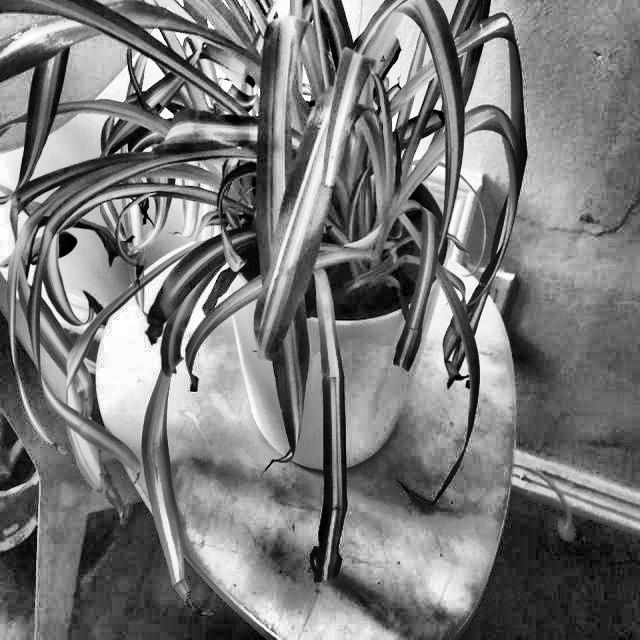plants: (0, 0, 532, 603), (140, 226, 274, 361), (382, 114, 430, 232)
